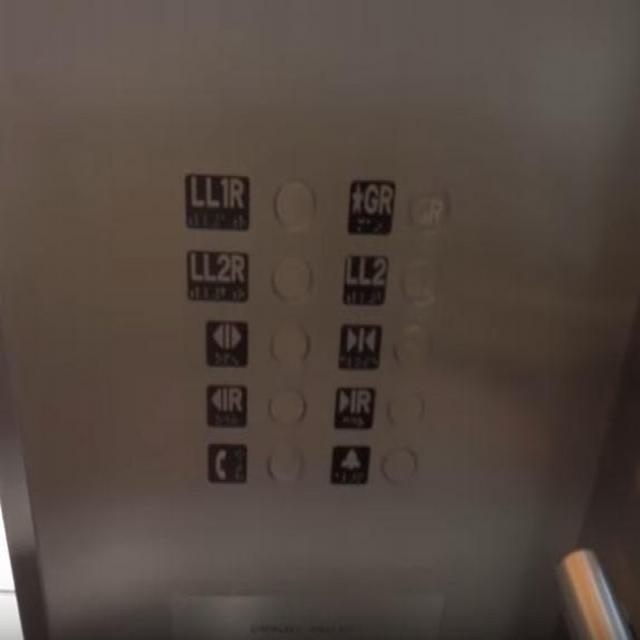GR: (405, 177, 452, 236)
IR: (330, 380, 378, 432), (202, 379, 250, 428)
LL2: (332, 247, 390, 309)
alarm: (327, 442, 372, 487)
call: (203, 439, 250, 485)
close: (334, 317, 382, 372)
empty: (270, 249, 318, 307), (270, 176, 318, 231), (388, 319, 434, 373), (266, 316, 312, 367), (398, 252, 438, 307), (383, 384, 428, 432), (264, 383, 308, 429), (262, 442, 308, 486), (379, 444, 420, 488)
open: (200, 317, 250, 368)
sGR: (342, 172, 395, 239)
text_LL1R: (181, 168, 252, 229)
text_LL2R: (182, 244, 252, 303)
